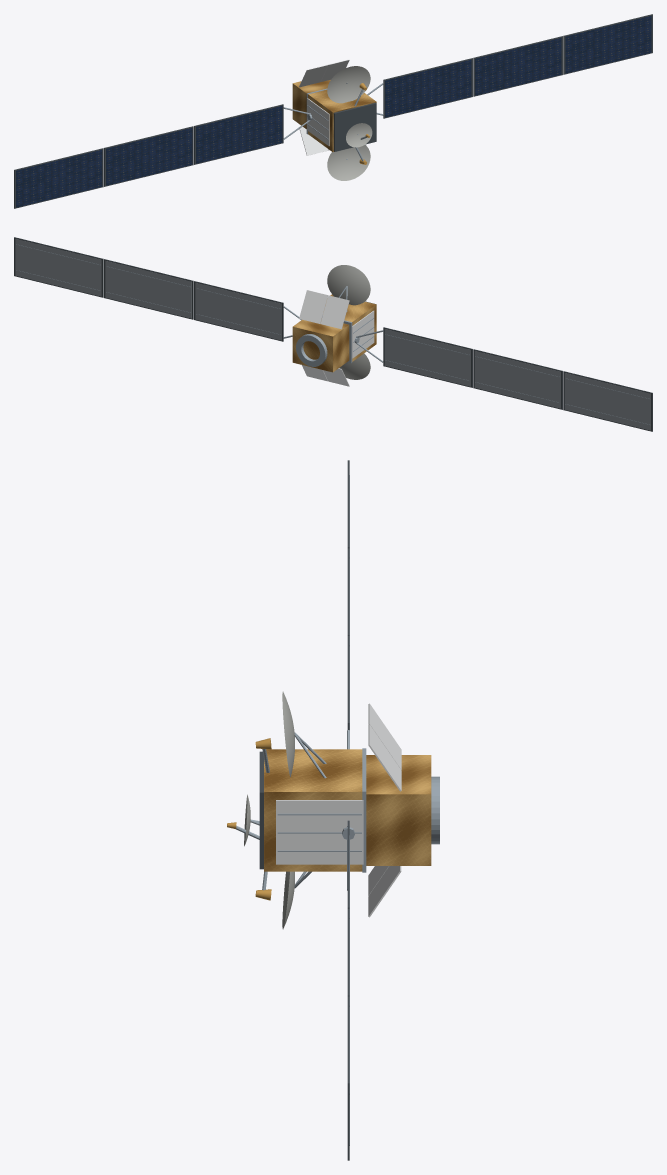
Rendered from ref-eurostar-3000s-33436.glb.
3 renders of one model, top to bottom at view 1: azimuth 30°, elevation 25°; view 2: azimuth 150°, elevation 25°; view 3: azimuth 270°, elevation 25°, orthographic. The views are drawn at different scales.
Visible parts, largest first — view 1: Solar cell panel (×6), Solar panel frame (×6), Communications reflector (×2), Earth-facing deck, Deployed radiator leaf (×3), Payload module, Service module, Radiator face, Deck-mounted reflector; view 2: Rear array substrate (×6), Solar panel frame (×6), Service module, Communications reflector (×2), Deployed radiator leaf (×2), Radiator face, Payload module, Launch adapter ring; view 3: Service module, Payload module, Radiator face.
Boxes of the visible parts, bbox=[...] form: Solar cell panel (×6): bbox=[16, 15, 651, 207]; Solar panel frame (×6): bbox=[14, 14, 652, 208]; Communications reflector (×2): bbox=[327, 66, 370, 180]; Earth-facing deck: bbox=[333, 102, 376, 151]; Deployed radiator leaf (×3): bbox=[299, 59, 349, 155]; Payload module: bbox=[308, 90, 376, 151]; Service module: bbox=[292, 80, 330, 128]; Radiator face: bbox=[307, 98, 329, 145]; Deck-mounted reflector: bbox=[346, 123, 372, 147]; Rear array substrate (×6): bbox=[15, 238, 650, 430]; Solar panel frame (×6): bbox=[14, 237, 652, 431]; Service module: bbox=[292, 319, 349, 372]; Communications reflector (×2): bbox=[327, 265, 370, 379]; Deployed radiator leaf (×2): bbox=[299, 290, 349, 329]; Radiator face: bbox=[352, 310, 374, 358]; Payload module: bbox=[325, 294, 376, 361]; Launch adapter ring: bbox=[296, 334, 327, 366]; Service module: bbox=[366, 755, 431, 865]; Payload module: bbox=[264, 749, 362, 871]; Radiator face: bbox=[276, 800, 363, 864].
Size of the model in its own units: 34.95 by 5.94 by 5.05.
8 materials, 2 textured.
